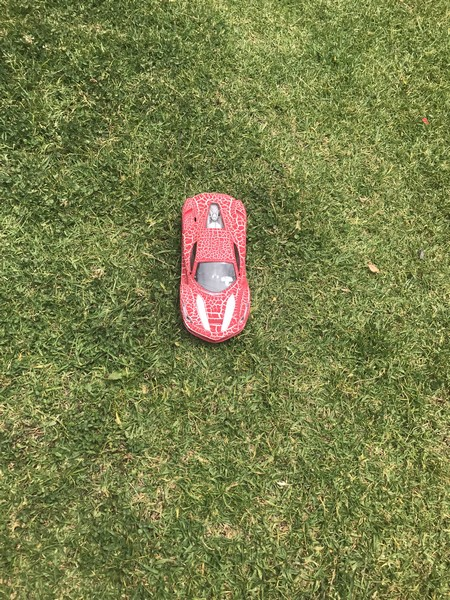RC: (177, 190, 254, 346)
